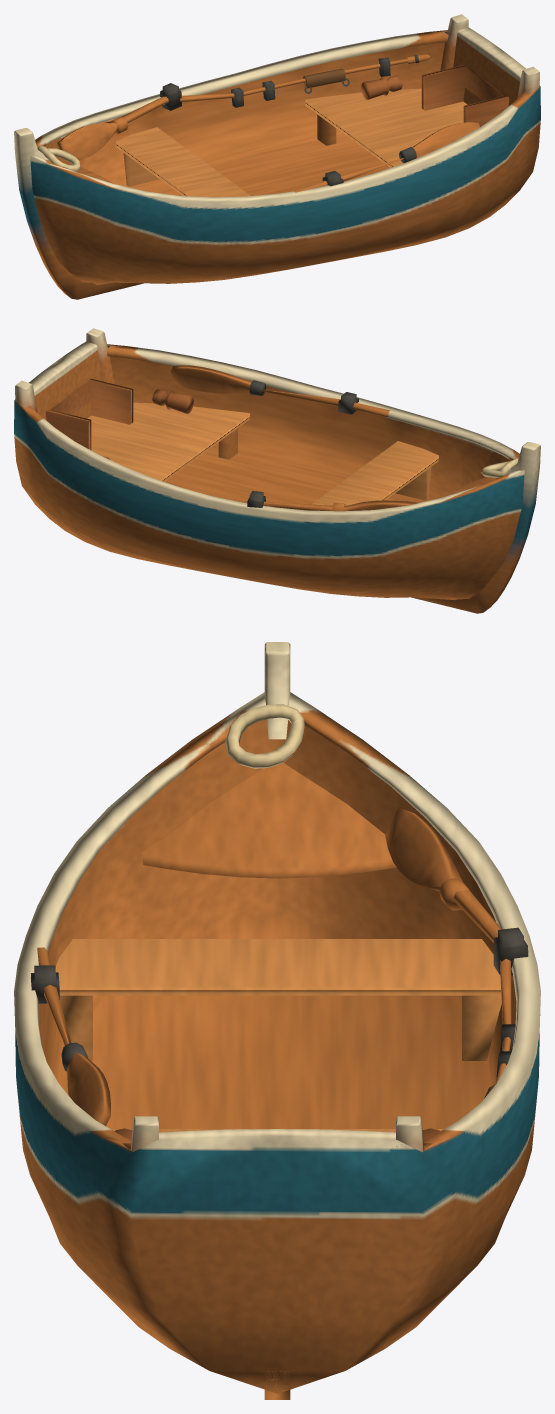
File: rowboat.fbx
3 renders of one model, top to bottom at view 1: azimuth 30°, elevation 25°; view 2: azimuth 150°, elevation 25°; view 3: azimuth 270°, elevation 25°, orthographic. The views are drawn at different scales.
Visible parts, largest first — view 1: wooden rowboat 3d model; view 2: wooden rowboat 3d model; view 3: wooden rowboat 3d model.
Boxes of the visible parts, <box> form: wooden rowboat 3d model: <box>14,14,540,299</box>; wooden rowboat 3d model: <box>14,328,540,613</box>; wooden rowboat 3d model: <box>14,642,540,1399</box>.
Size of the model in its own units: 99.95 by 35.21 by 51.51.
1 material, 1 textured.
